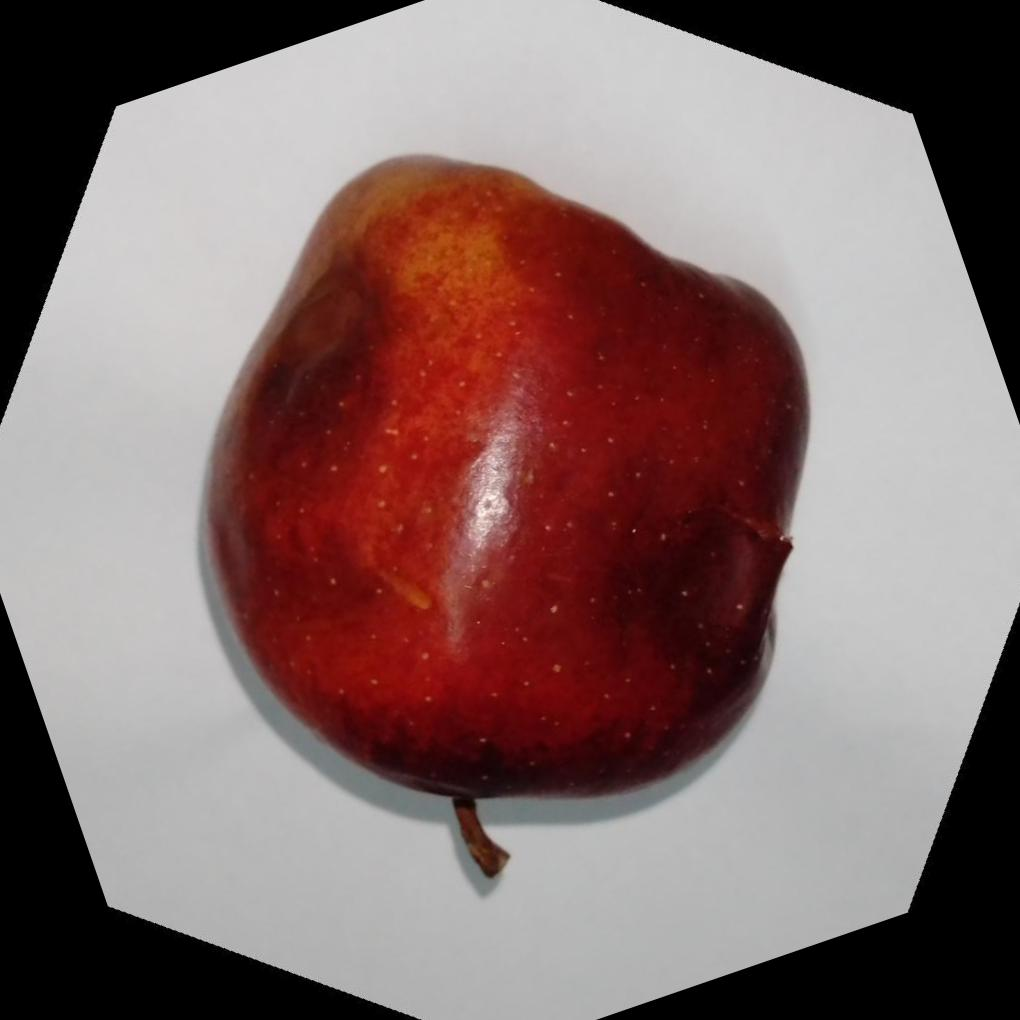FreshOrange: (195, 153, 808, 804)
